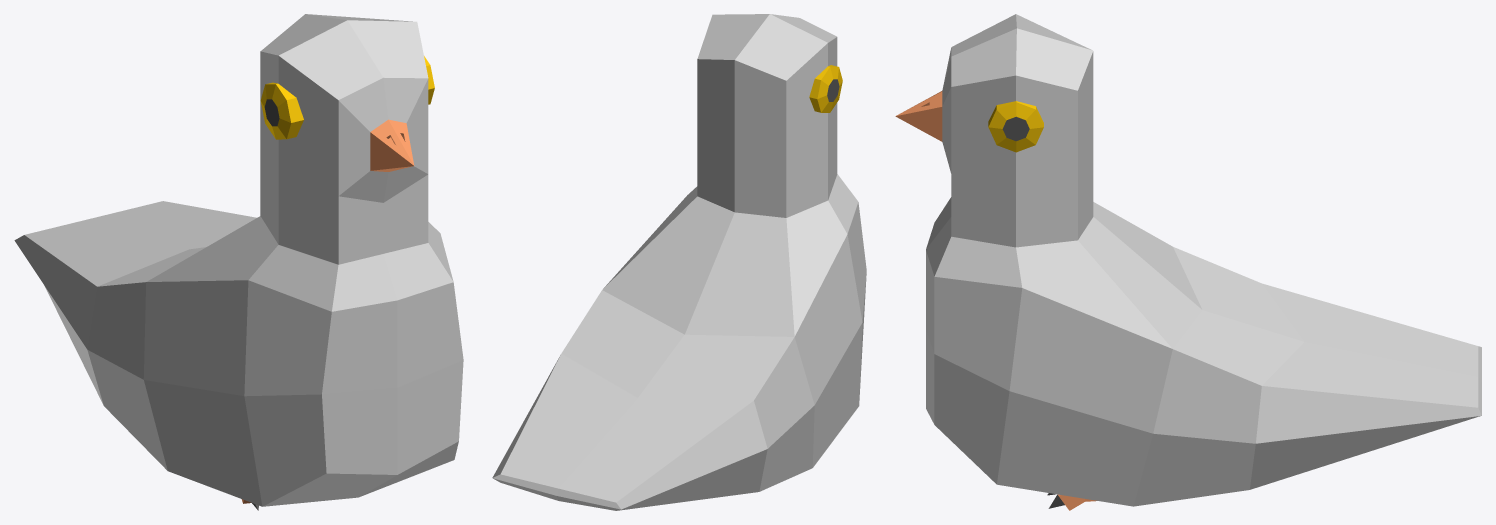
Rendered from Dove.obj.
The picture shows the model from 3 angles, left to right: view 1: azimuth 30°, elevation 25°; view 2: azimuth 150°, elevation 25°; view 3: azimuth 270°, elevation 25°; orthographic projection. The views are drawn at different scales.
Visible parts, largest first — view 1: Dove_01_Cube_032; view 2: Dove_01_Cube_032; view 3: Dove_01_Cube_032.
Boxes of the visible parts, x1,y1,x2,y2 form: Dove_01_Cube_032: (14,14,463,510); Dove_01_Cube_032: (492,14,866,510); Dove_01_Cube_032: (895,14,1481,510).
Size of the model in its own units: 11.15 by 20.12 by 24.2.
